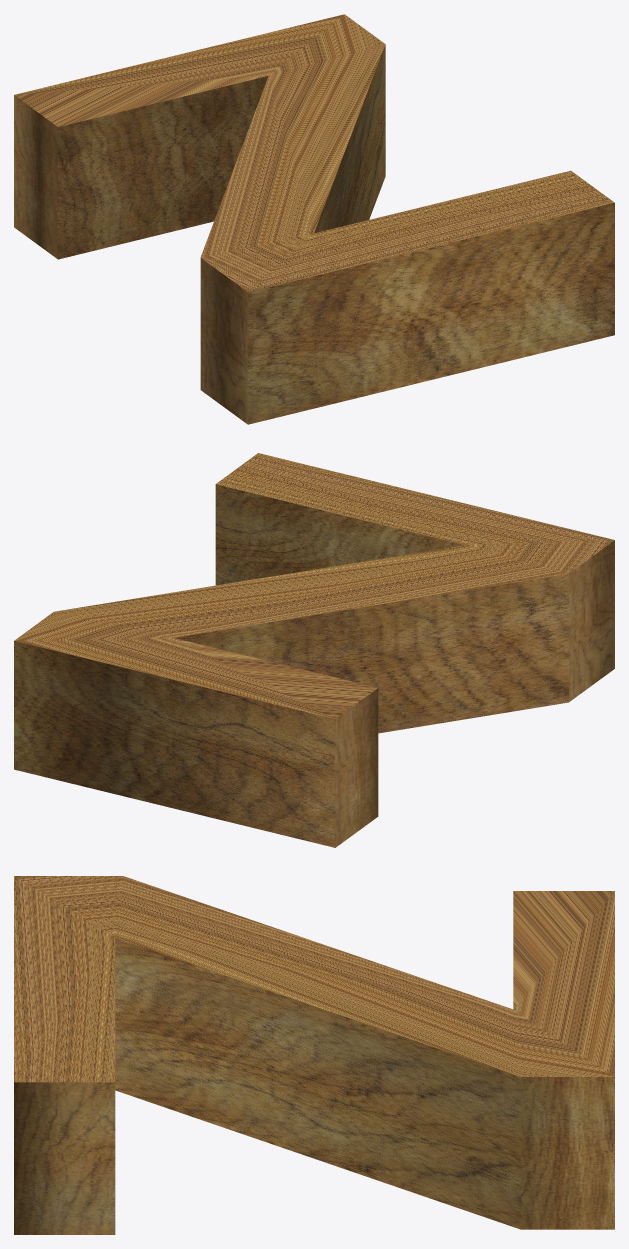
The picture shows the model from 3 angles, top to bottom: view 1: azimuth 30°, elevation 25°; view 2: azimuth 150°, elevation 25°; view 3: azimuth 270°, elevation 25°; orthographic projection. The views are drawn at different scales.
Parts seen in each view (by area): view 1: Z; view 2: Z; view 3: Z.
Part boxes in pixels (box(x1,y1,x2,y2)): Z: box(14, 14, 614, 424); Z: box(14, 453, 614, 847); Z: box(14, 876, 614, 1234).
Size of the model in its own units: 40.61 by 14 by 49.98.
Materials: 1 (1 with a texture image).
